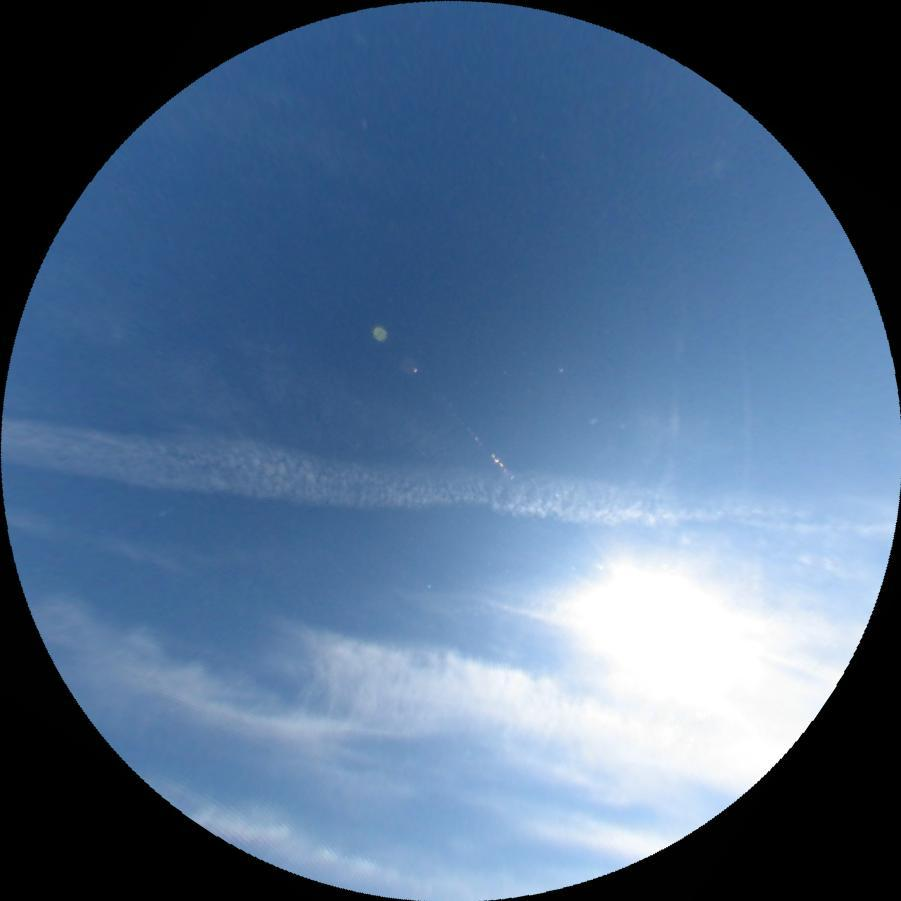contrail veryold: (0, 415, 895, 558), (656, 308, 699, 488)
sun: (566, 563, 746, 706)
unknow: (740, 342, 750, 480)
